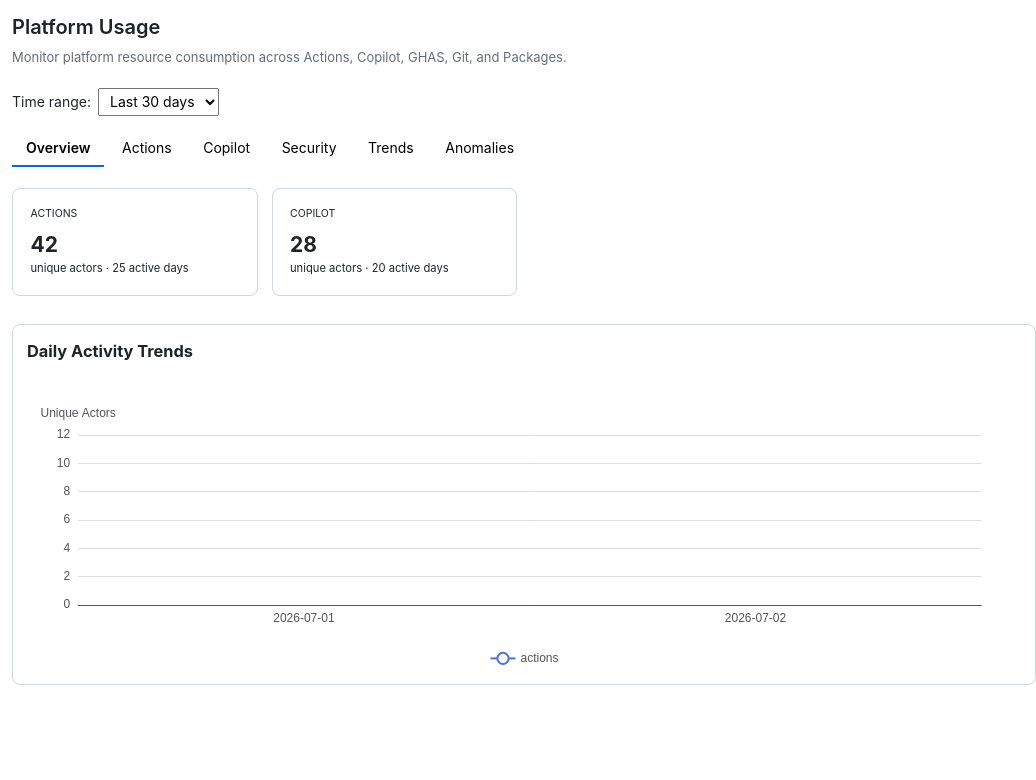
Test case: PlatformUsagePage › tab switching works
Click the tab "Anomalies" at [480, 148], box [431,130,528,166]
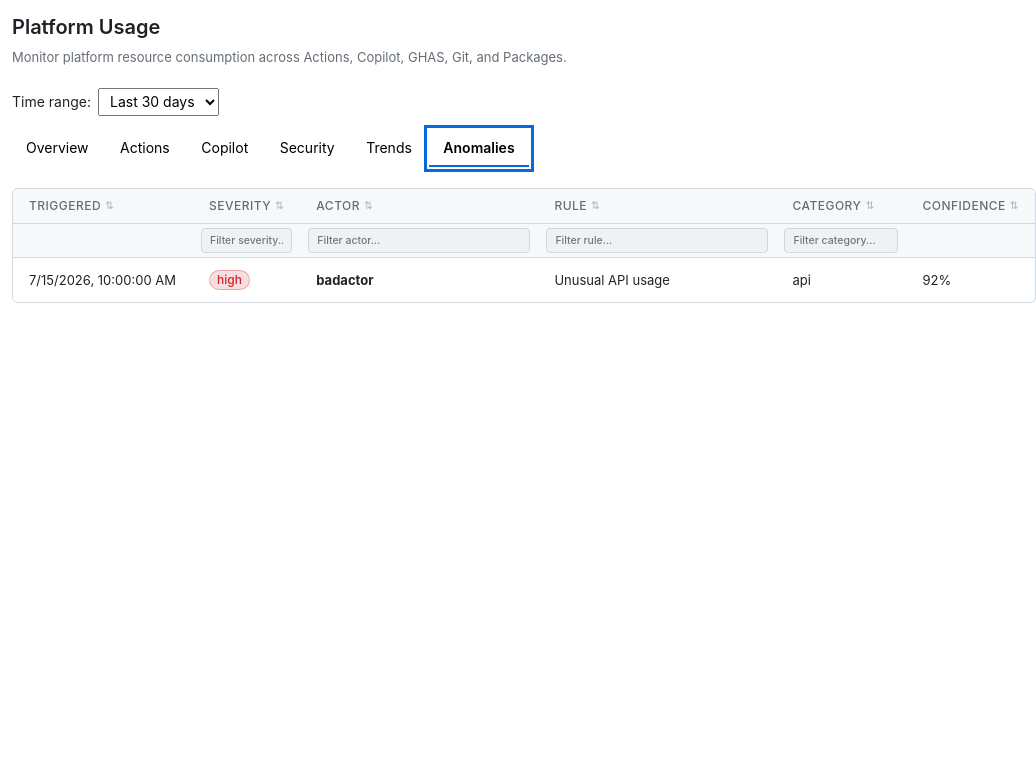
Now the text "Unusual API usage" is shown, box [538,258,776,302]
